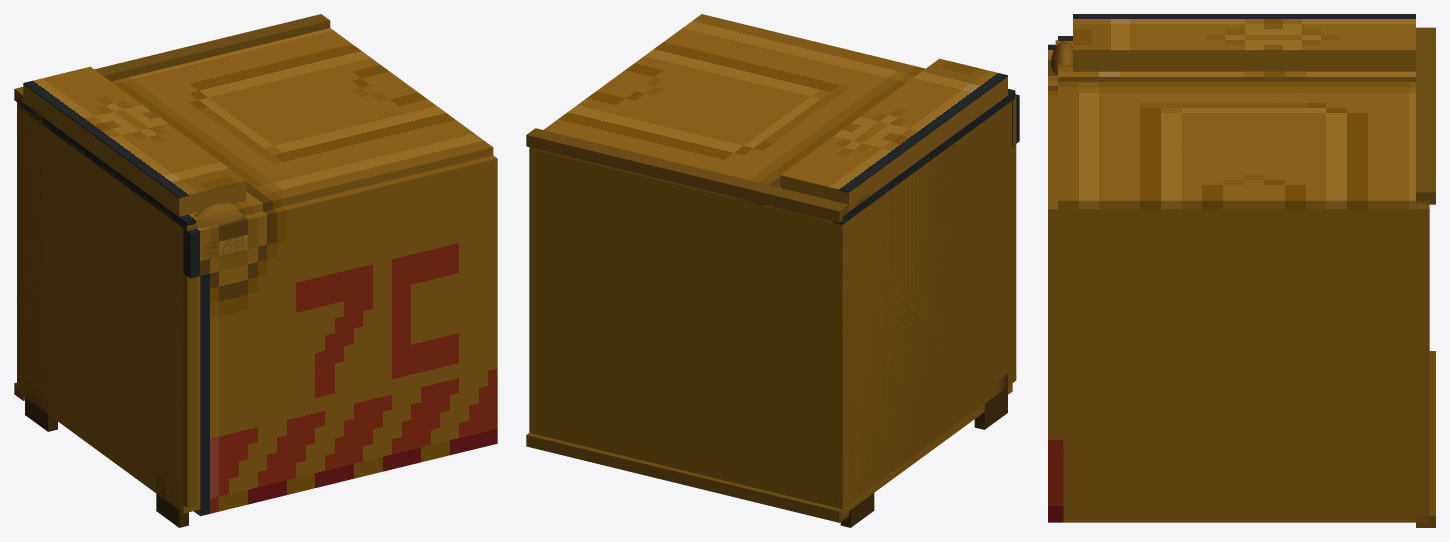
The model's file is CMU3DFreightRMCContainerTartarusLeft.glb.
3 renders of one model, left to right at view 1: azimuth 30°, elevation 25°; view 2: azimuth 150°, elevation 25°; view 3: azimuth 270°, elevation 25°, orthographic. The views are drawn at different scales.
Visible parts, largest first — view 1: painted front panel, closed cargo shell, source-painted lid, source-painted locking strap, outer end wall, outer lid strap, rear horizontal frame, corner lifting foot (×2), corner frame upright, rounded strap end; view 2: closed cargo shell, outer end wall, source-painted lid, rear horizontal frame (×2), source-painted locking strap, outer lid strap, corner lifting foot; view 3: closed cargo shell, source-painted lid, source-painted locking strap, outer lid strap, painted front panel, rear horizontal frame (×2), rounded strap end.
Boxes of the visible parts, x1,y1,x2,y2 form: painted front panel: [183, 155, 497, 516]; closed cargo shell: [17, 108, 200, 513]; source-painted lid: [17, 28, 493, 229]; source-painted locking strap: [23, 66, 246, 197]; outer end wall: [17, 103, 196, 507]; outer lid strap: [23, 84, 246, 216]; rear horizontal frame: [14, 14, 330, 106]; corner lifting foot (×2): [25, 379, 188, 527]; corner frame upright: [30, 104, 42, 385]; rounded strap end: [194, 202, 243, 227]; closed cargo shell: [529, 147, 1012, 515]; outer end wall: [832, 93, 1016, 507]; source-painted lid: [529, 14, 1015, 224]; rear horizontal frame (×2): [526, 128, 848, 522]; source-painted locking strap: [780, 58, 1007, 192]; outer lid strap: [780, 76, 1007, 211]; corner lifting foot: [974, 374, 1007, 429]; closed cargo shell: [1063, 209, 1429, 522]; source-painted lid: [1058, 36, 1429, 209]; source-painted locking strap: [1073, 14, 1415, 50]; outer lid strap: [1073, 51, 1415, 71]; painted front panel: [1048, 44, 1064, 522]; rear horizontal frame (×2): [1416, 27, 1435, 527]; rounded strap end: [1050, 40, 1072, 75].
Size of the model in its own units: 1 by 1.03 by 0.995.
10 materials, 3 textured.
